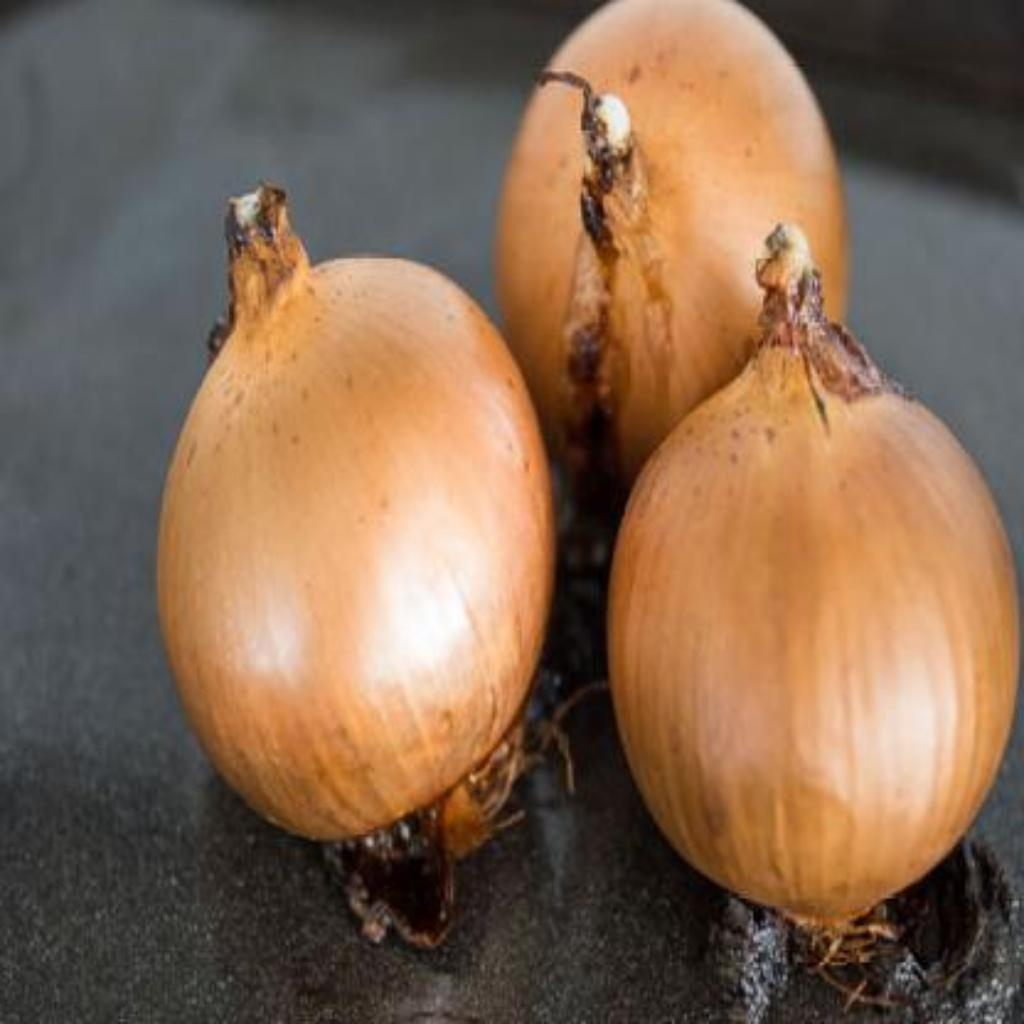Onion: (610, 224, 1019, 927), (158, 187, 551, 843), (500, 0, 849, 484)
